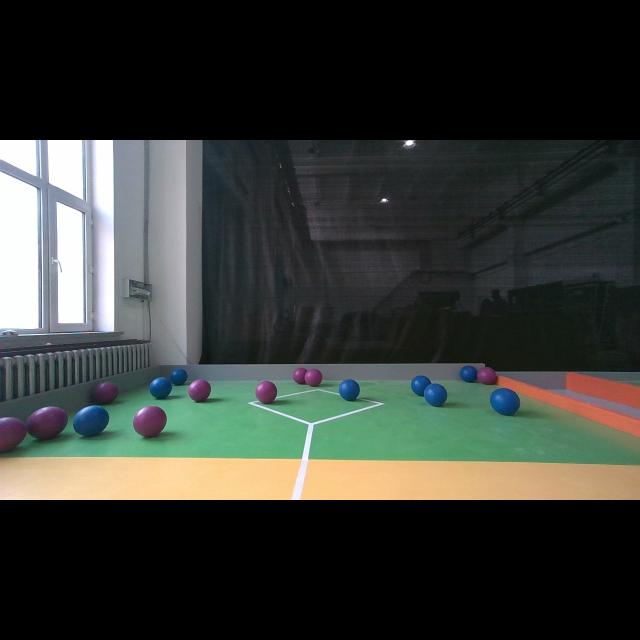B: (73, 406, 109, 436), (490, 388, 520, 416), (338, 379, 359, 401), (150, 378, 172, 398), (170, 368, 188, 386), (459, 366, 476, 382)
P: (27, 406, 68, 440), (133, 406, 167, 436), (93, 382, 119, 404), (189, 380, 211, 402), (255, 381, 277, 403), (304, 369, 322, 387), (477, 368, 497, 384)
R: (424, 384, 448, 406)
